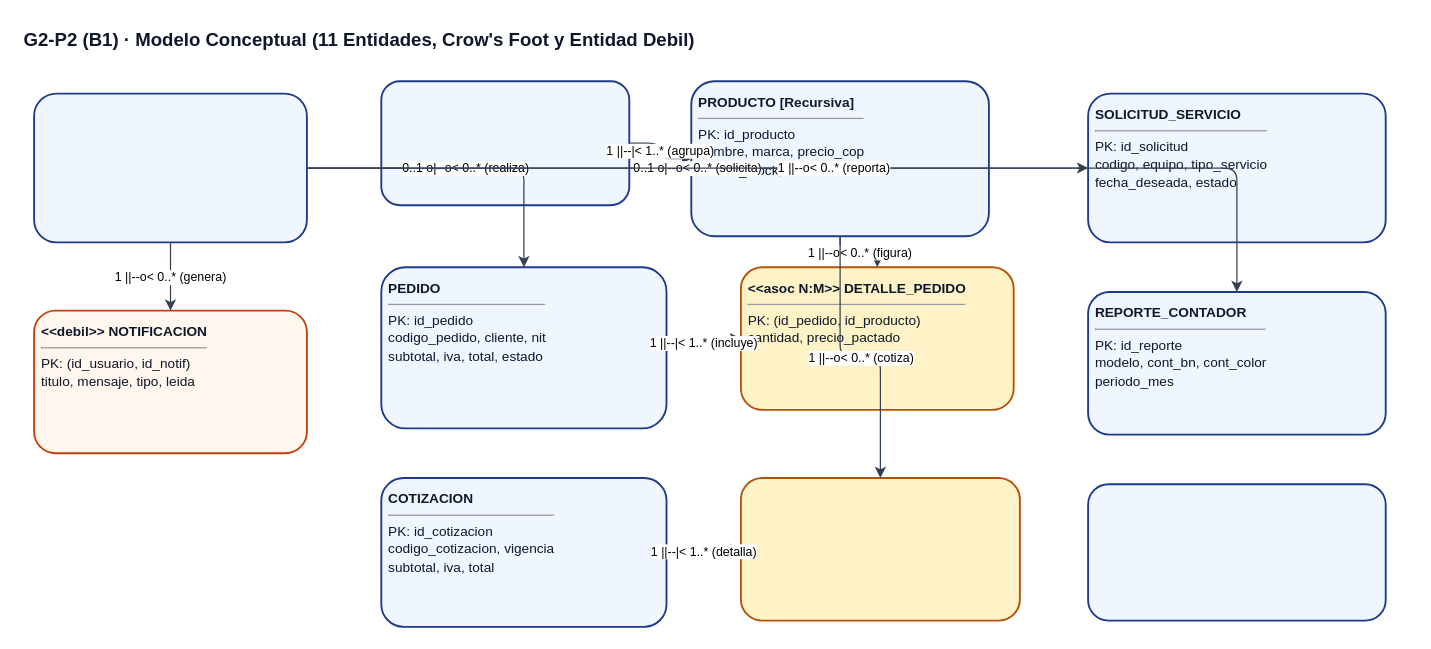
The diagram is 1431 pixels wide and 649 high, and some of its shapes have lost their labels. The centre of each missing label's shape, as x and y in pixels:
"<<asoc N:M>> DETALLE_COTIZ PK: (id_cotiz, id_producto) cantidad, precio_cotizado" belongs at (879,549).
"CATEGORIA PK: id_categoria slug, nombre, orden_visual" belongs at (505,143).
"MENSAJE_CONTACTO PK: id_mensaje nombre, correo, asunto, leido" belongs at (1236,552).
"USUARIO PK: id_usuario correo, clave_hash, rol nombre_completo, activo" belongs at (170,167).
